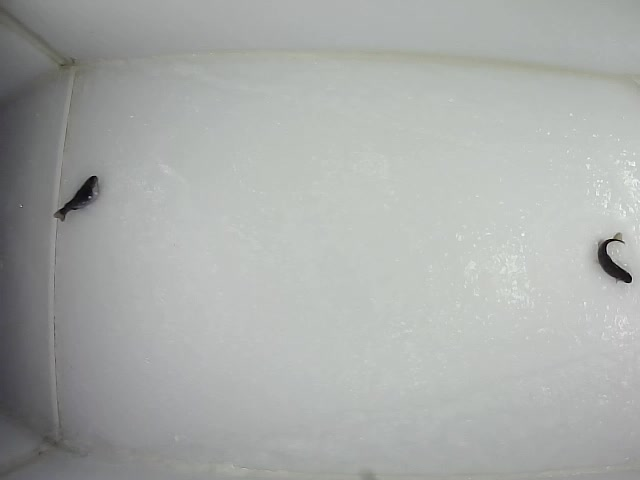fish: (51, 173, 100, 223), (596, 230, 633, 283)
